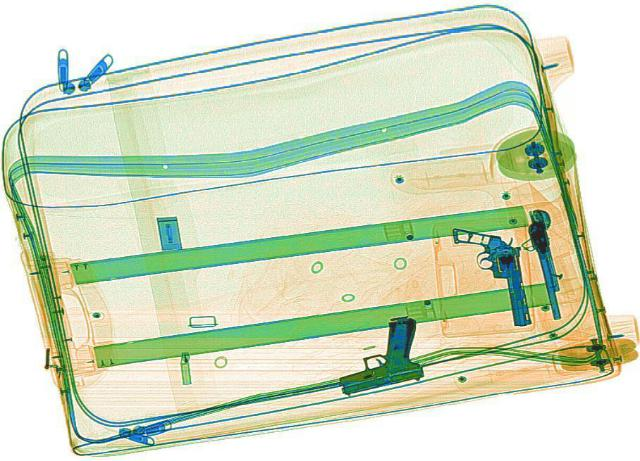Gun: (312, 312, 440, 392), (448, 219, 538, 330), (520, 206, 574, 317)
